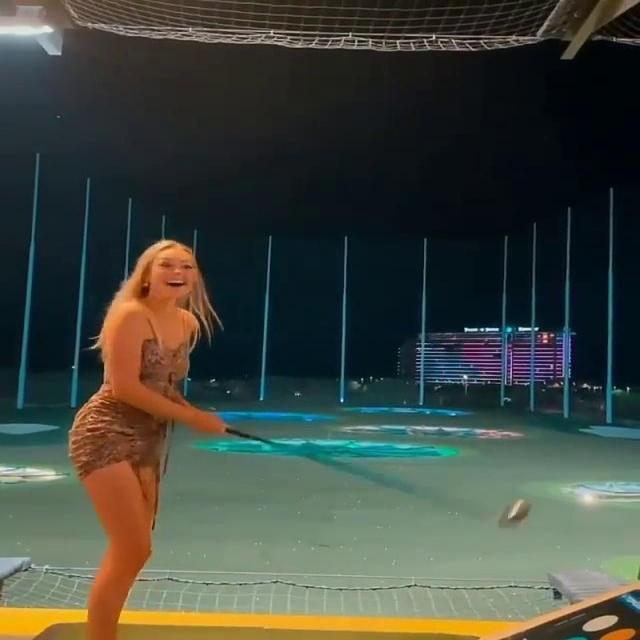ClubHead: (502, 499, 529, 532)
